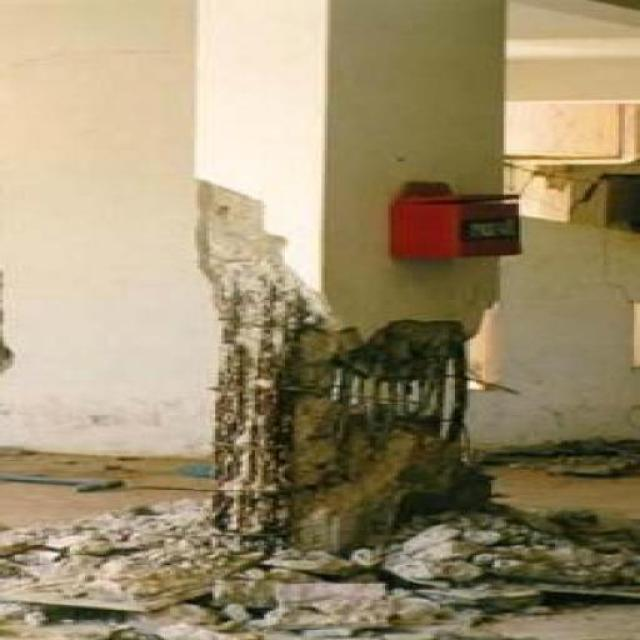D0w0: (199, 181, 468, 550)
